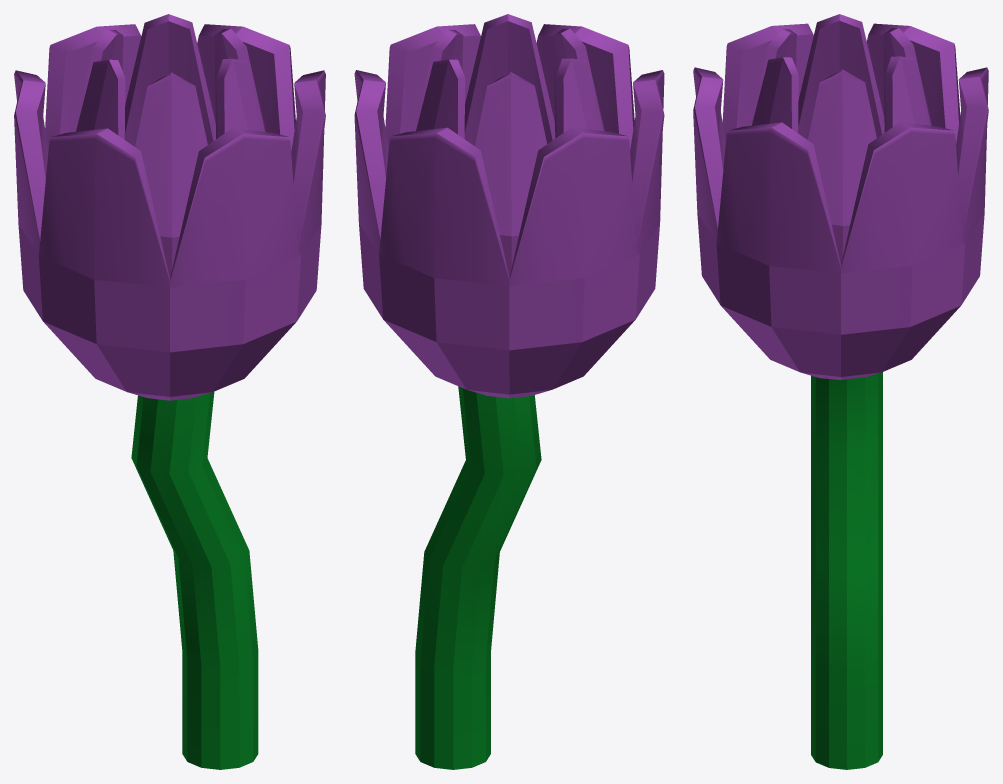
The model's file is Tulip_1.fbx.
3 views of the same model, side by side, from view 1: azimuth 30°, elevation 25°; view 2: azimuth 150°, elevation 25°; view 3: azimuth 270°, elevation 25° (orthographic). The views are drawn at different scales.
Visible parts, largest first — view 1: Tulip1_Steam_GEO2; view 2: Tulip1_Steam_GEO2; view 3: Tulip1_Steam_GEO2.
Boxes of the visible parts, left/top/right/bottom form: Tulip1_Steam_GEO2: left=14, top=14, right=325, bottom=769; Tulip1_Steam_GEO2: left=354, top=14, right=664, bottom=769; Tulip1_Steam_GEO2: left=693, top=14, right=988, bottom=769.
Bounding box in the file's own units: 23.45 × 58.76 × 22.91.
